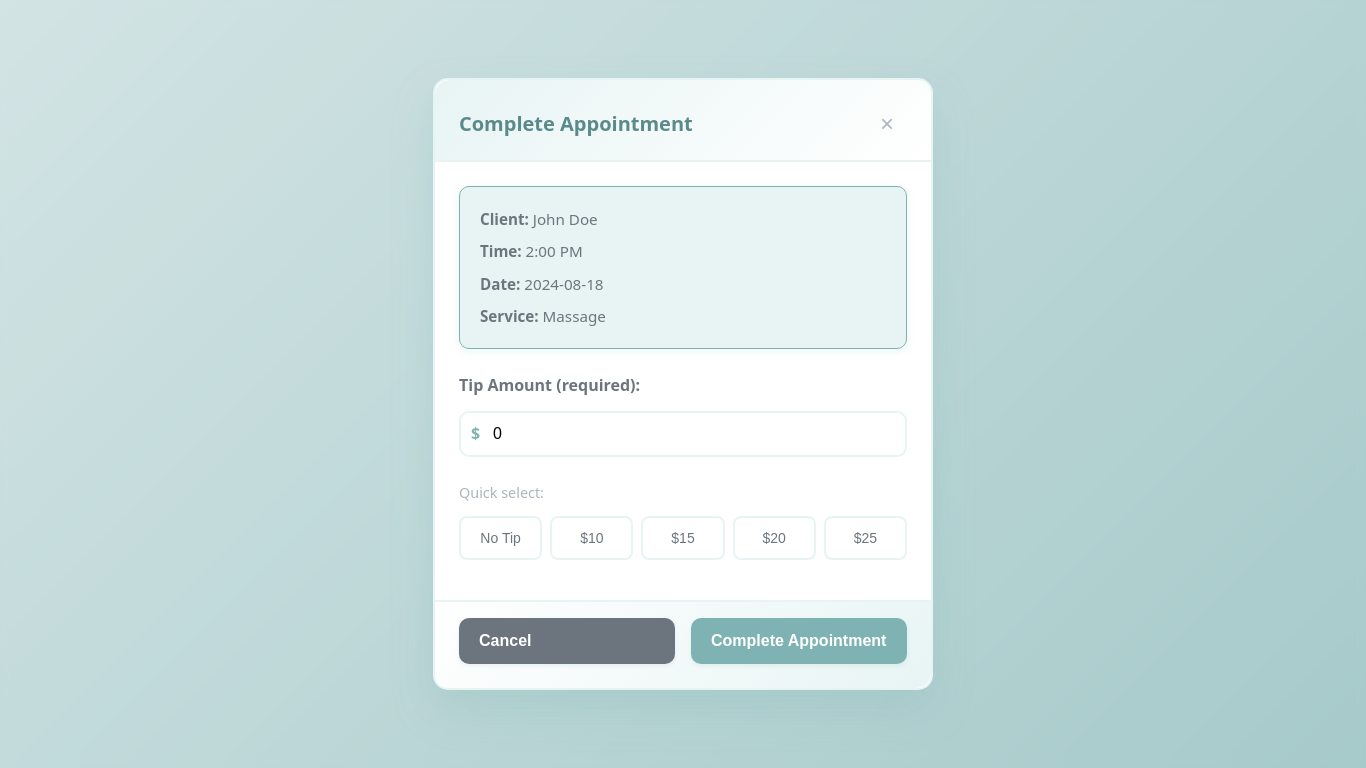
Test: TipModal Component › Form Validation › shows error for negative tip amount
// Use fireEvent to force-set a negative number regardless of min constraint
Step 1. Replace the text in the number field with placeholder "0.00" with "-5" → point(683, 434), box [459, 411, 907, 457]
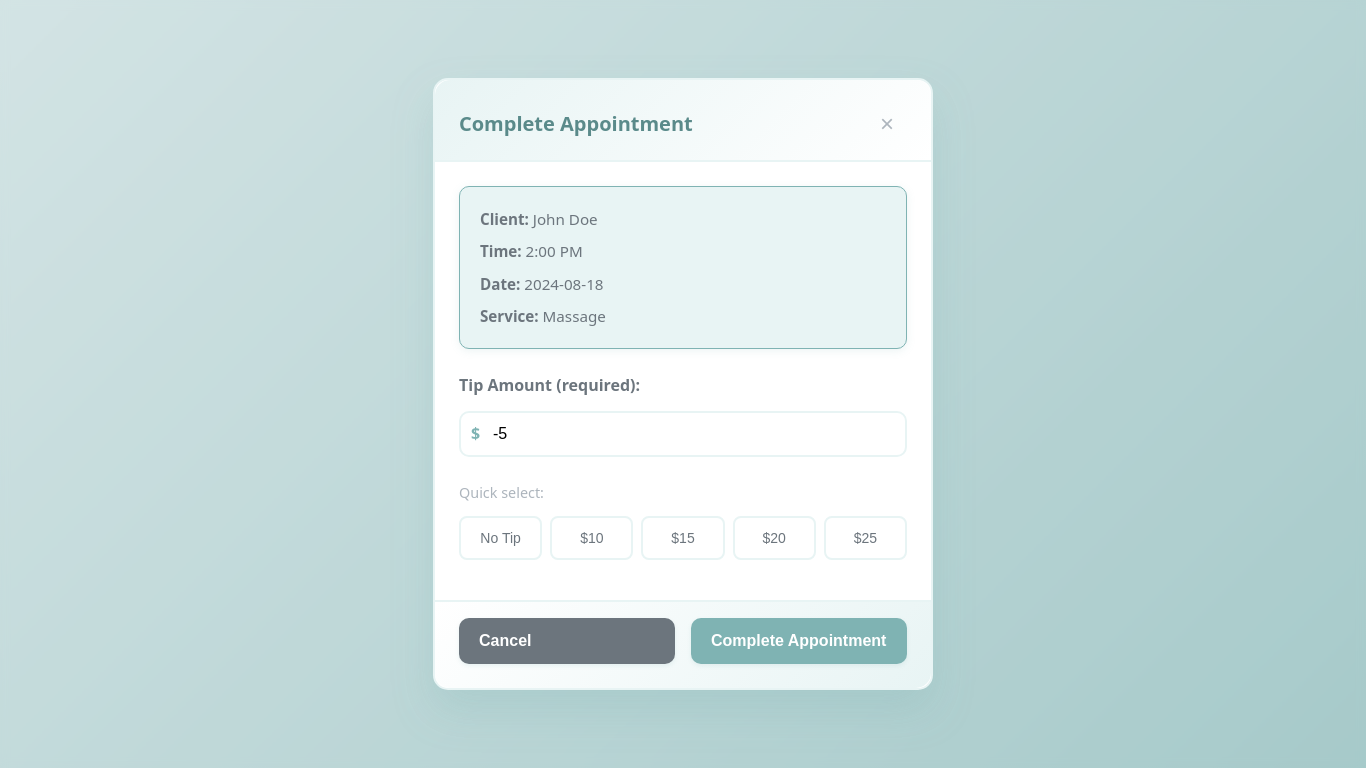
Step 2. Click the button "Complete Appointment" → point(799, 641), box [691, 618, 907, 664]
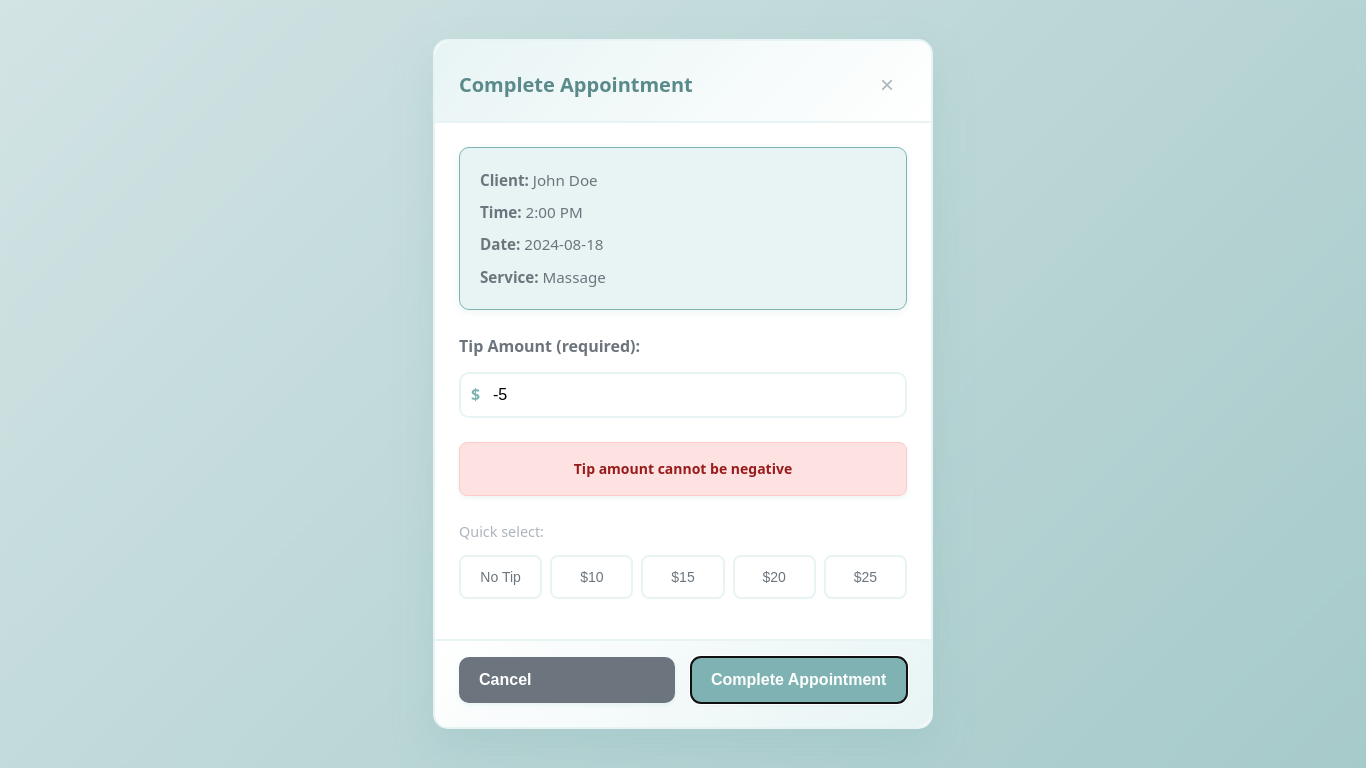
Check: the text "Tip amount cannot be negative" is shown, box [459, 442, 907, 496]
